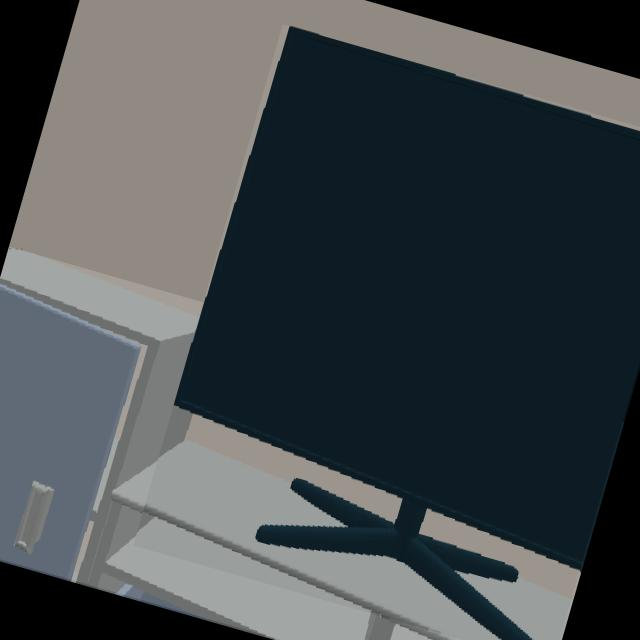cabinet: (0, 250, 496, 640)
monitor: (174, 27, 640, 640)
